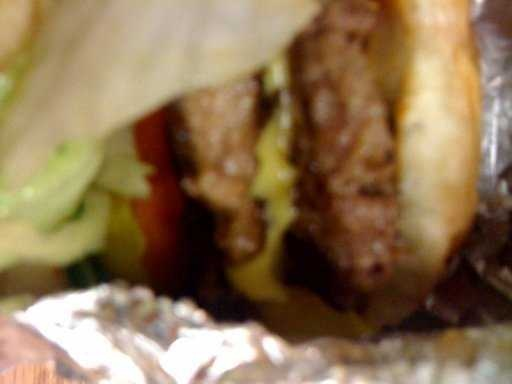hamburger: (1, 1, 489, 284)
